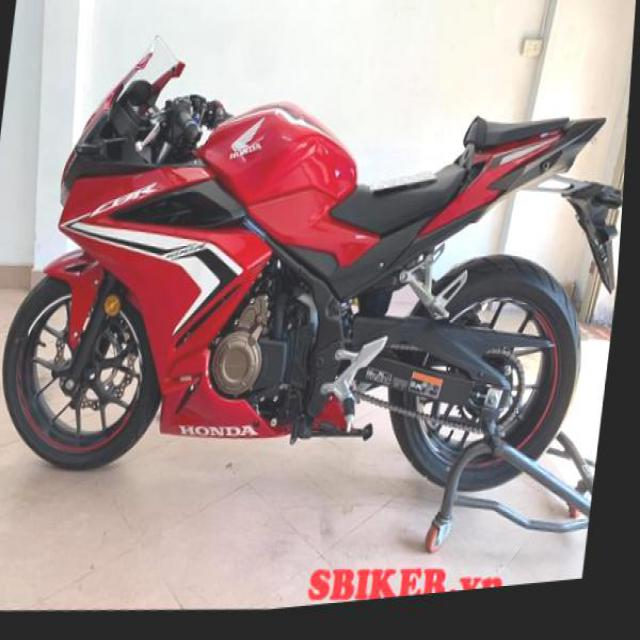CBR500R: (0, 0, 637, 552)
